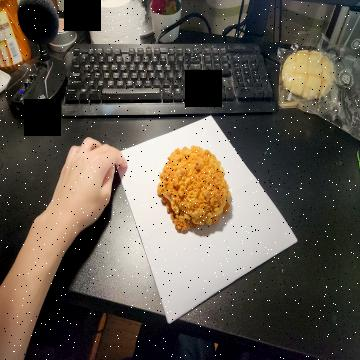soboru_bread: (157, 146, 232, 234)
